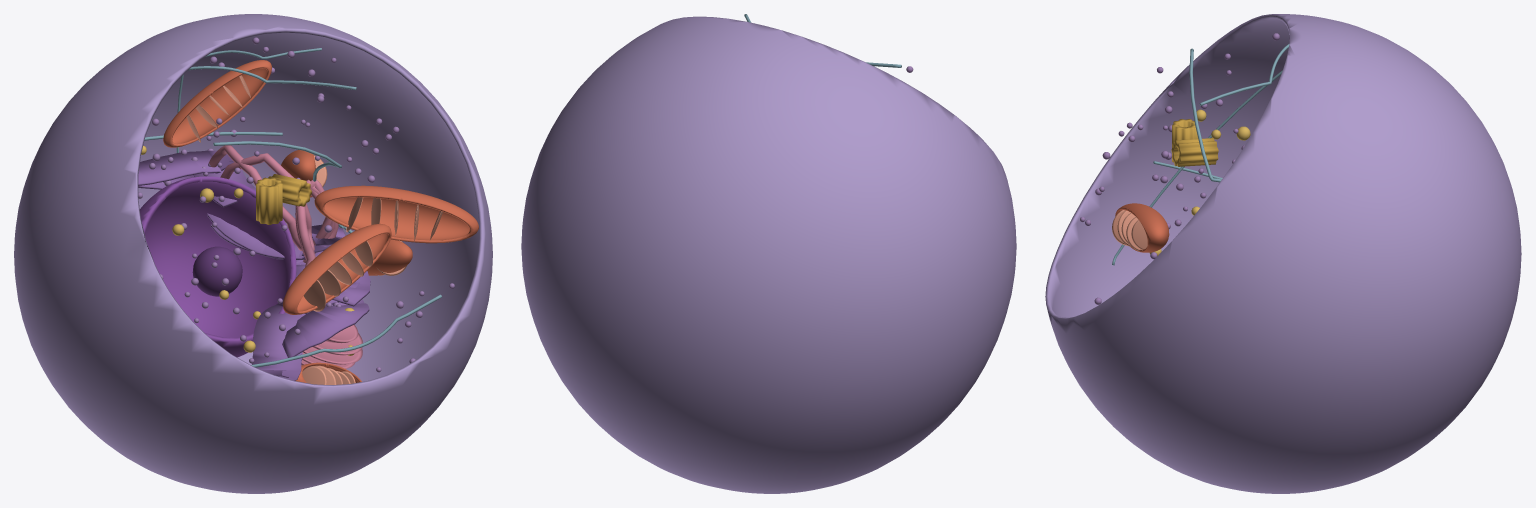
Rendered from animal-cell.glb.
3 views of the same model, side by side, from view 1: azimuth 30°, elevation 25°; view 2: azimuth 150°, elevation 25°; view 3: azimuth 270°, elevation 25° (orthographic). The views are drawn at different scales.
Visible parts, largest first — view 1: membrane.001, mitochondria, nucleus, er, fibers, ribosomes.002, centrioles_copy, nucleolus, golgi_copy, vesicles; view 2: membrane.001; view 3: membrane.001, mitochondria, fibers, centrioles_copy, ribosomes.002.
Part boxes in pixels (x1,y1,x2,y2): membrane.001: (14, 14, 492, 493); mitochondria: (163, 60, 478, 384); nucleus: (139, 176, 296, 357); er: (138, 145, 370, 380); fibers: (144, 48, 441, 367); ribosomes.002: (138, 37, 454, 372); centrioles_copy: (256, 174, 311, 224); nucleolus: (192, 246, 242, 296); golgi_copy: (253, 311, 362, 368); vesicles: (141, 145, 354, 352); membrane.001: (521, 16, 1016, 493); membrane.001: (1045, 14, 1521, 493); mitochondria: (1112, 203, 1169, 252); fibers: (1112, 44, 1289, 265); centrioles_copy: (1171, 119, 1218, 166); ribosomes.002: (1080, 33, 1289, 304).
Bounding box in the file's own units: 6 × 6 × 5.94.
